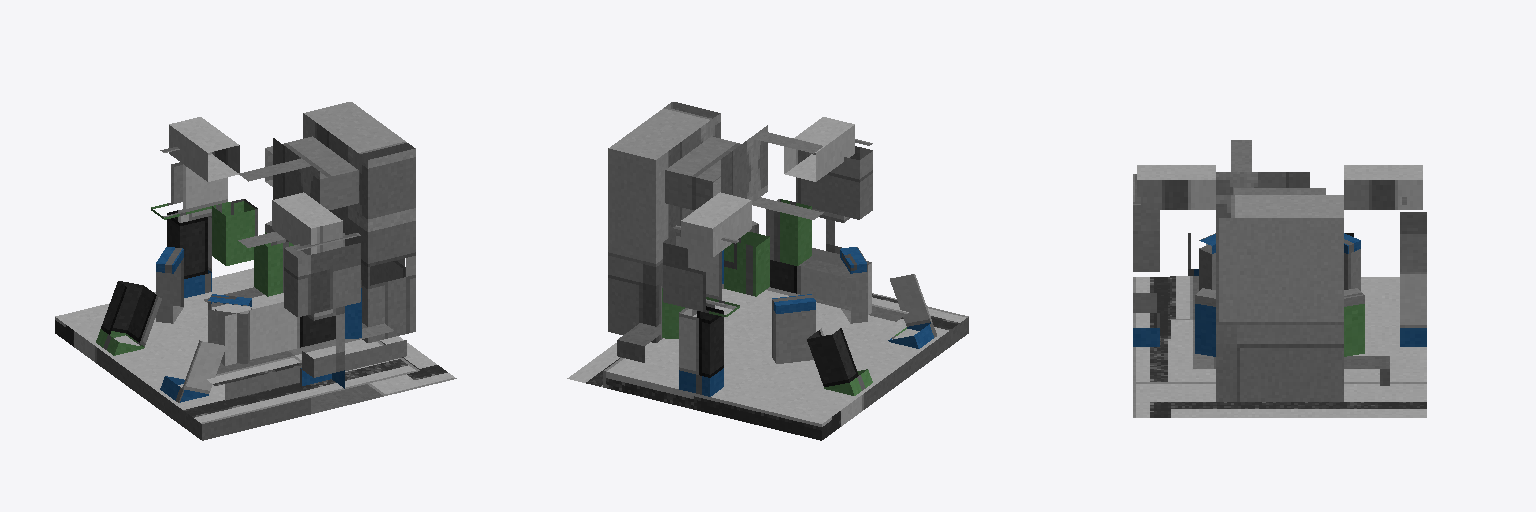
3 views of the same model, side by side, from view 1: azimuth 30°, elevation 25°; view 2: azimuth 150°, elevation 25°; view 3: azimuth 270°, elevation 25° (orthographic).
Parts seen in each view (by area): view 1: cube; view 2: cube; view 3: cube.
Part boxes in pixels (x1,y1,x2,y2): cube: (55,102,456,440); cube: (567,102,968,440); cube: (1133,140,1426,417).
Size of the model in its own units: 16 by 12 by 16.
Materials: 1 (1 with a texture image).